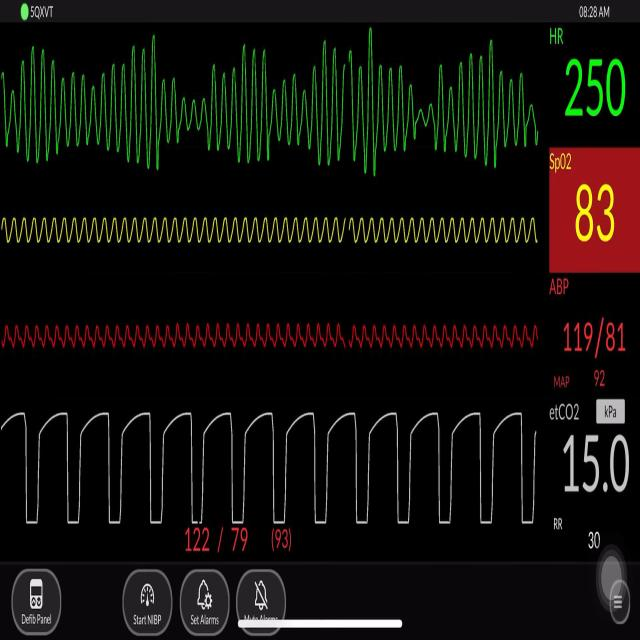danger: (7, 33, 544, 180)
